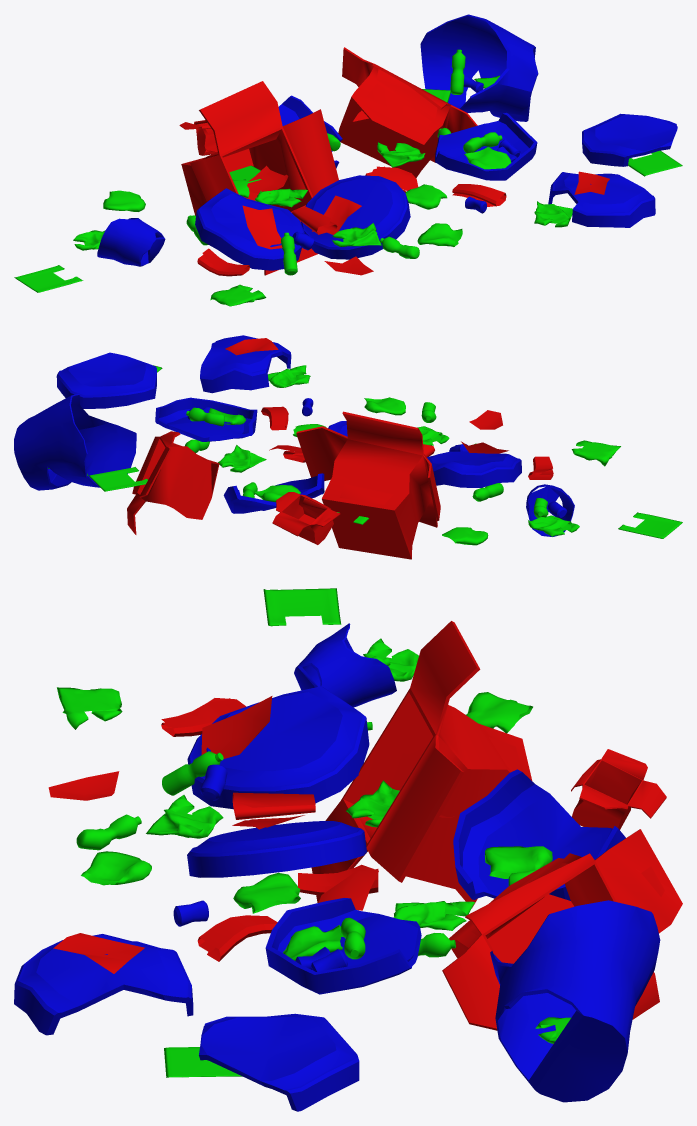
The model's file is SM_Garbage_01.fbx.
3 renders of one model, top to bottom at view 1: azimuth 30°, elevation 25°; view 2: azimuth 150°, elevation 25°; view 3: azimuth 270°, elevation 25°, orthographic. The views are drawn at different scales.
Visible parts, largest first — view 1: Box_03; view 2: Box_03; view 3: Box_03.
Boxes of the visible parts, x1,y1,x2,y2 form: Box_03: [14, 14, 682, 306]; Box_03: [14, 335, 682, 559]; Box_03: [14, 588, 682, 1111].
Bounding box in the file's own units: 1133 × 623 × 249.
